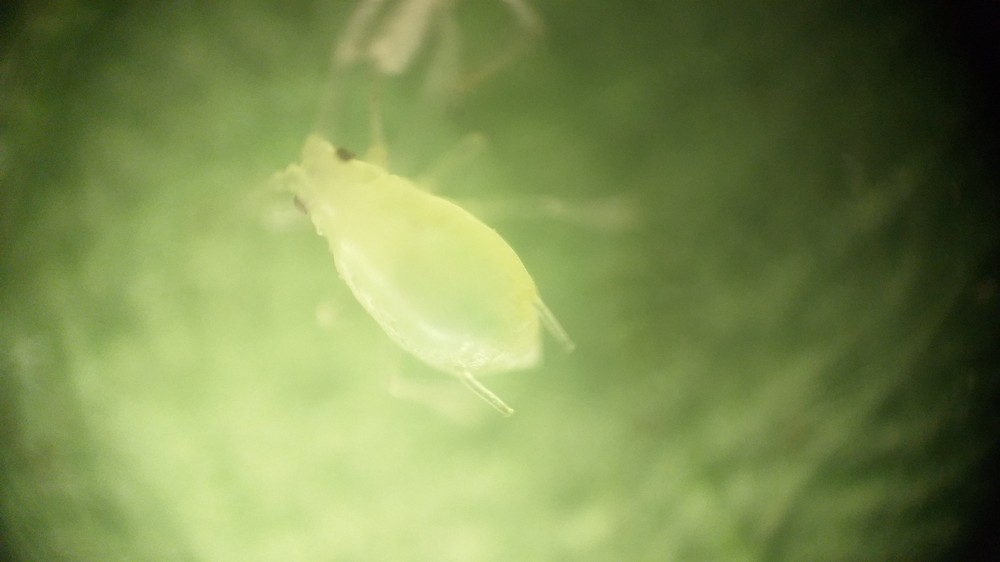Pulgon: (215, 41, 671, 464)
